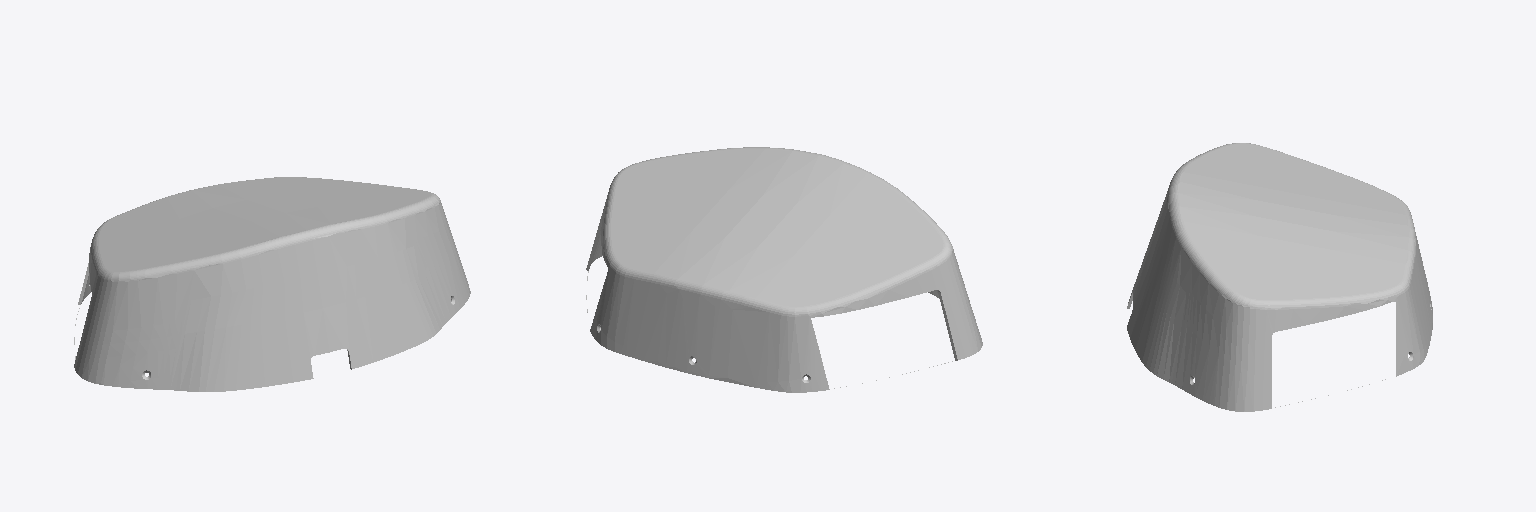
The model's file is Rear_cover.obj.
The picture shows the model from 3 angles: view 1: azimuth 30°, elevation 25°; view 2: azimuth 150°, elevation 25°; view 3: azimuth 270°, elevation 25°; orthographic projection.
Visible parts, largest first — view 1: 3 rear cover; view 2: 3 rear cover; view 3: 3 rear cover.
Part boxes in pixels (left/top/right/bottom): 3 rear cover: left=74, top=177, right=470, bottom=391; 3 rear cover: left=586, top=147, right=982, bottom=392; 3 rear cover: left=1127, top=143, right=1432, bottom=411.
Bounding box in the file's own units: 45.37 × 14.22 × 31.34.